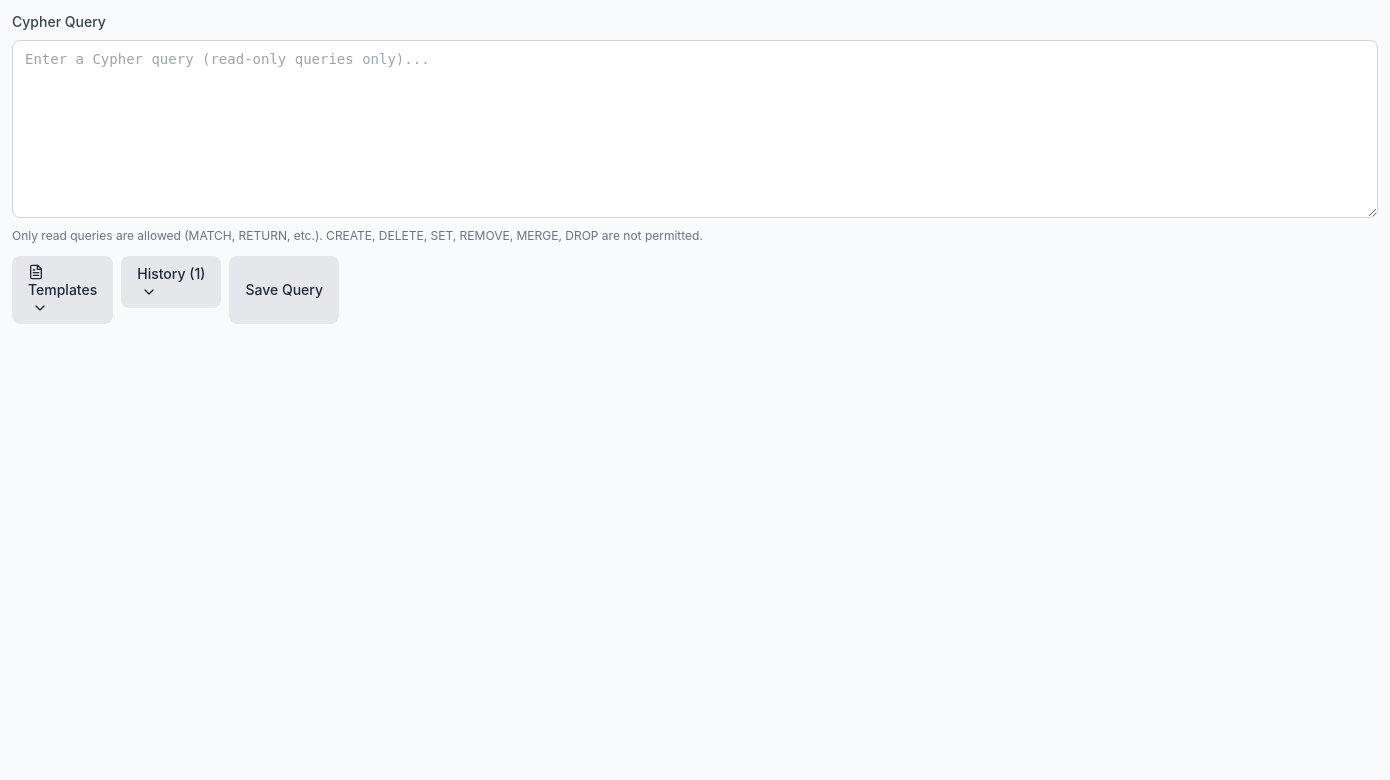
Test: QueryBuilder › query history › should hide history when templates is opened
Click the button with aria-label "Show query history": (171, 282) [121,256,221,308]
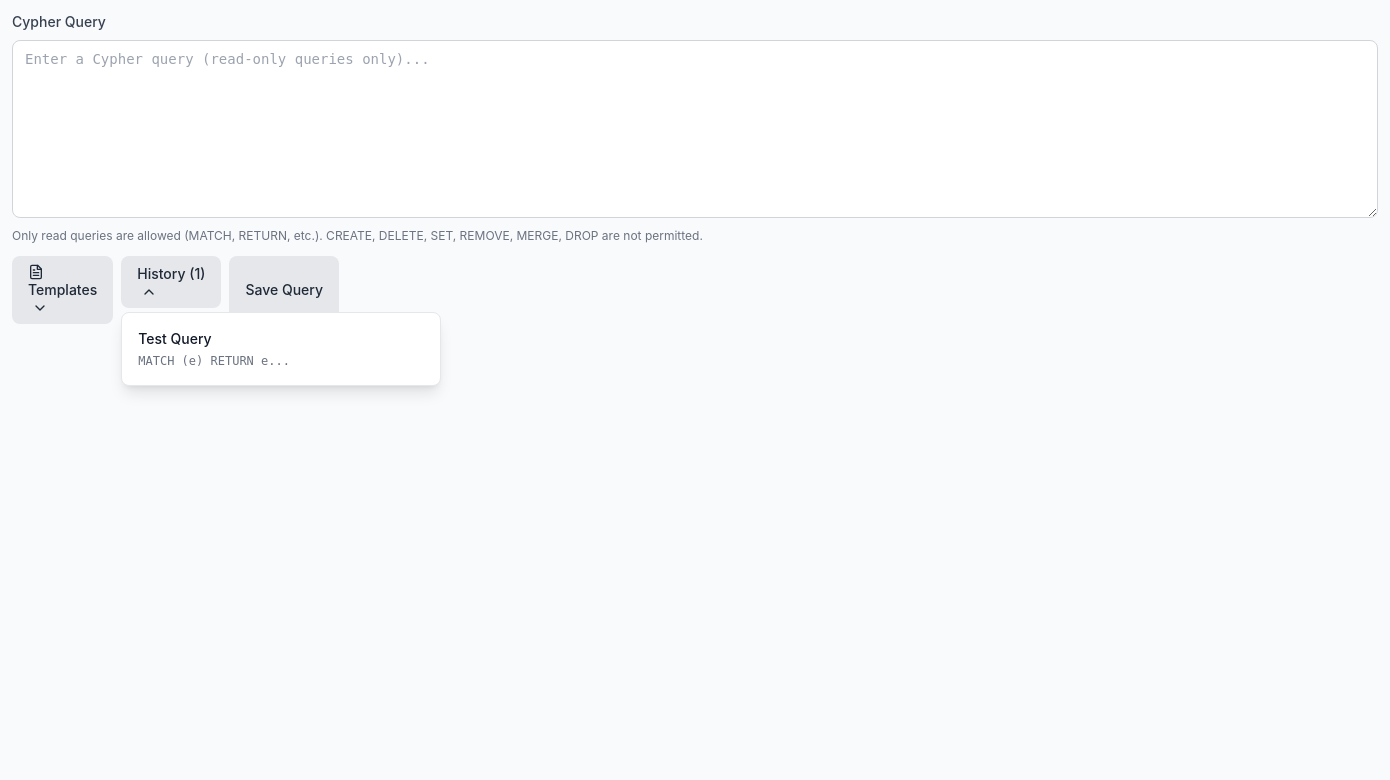
Result: the text "Test Query" is shown at [138,330,212,347]
Click the button with aria-label "Show query templates": (63, 290) [12,256,113,324]
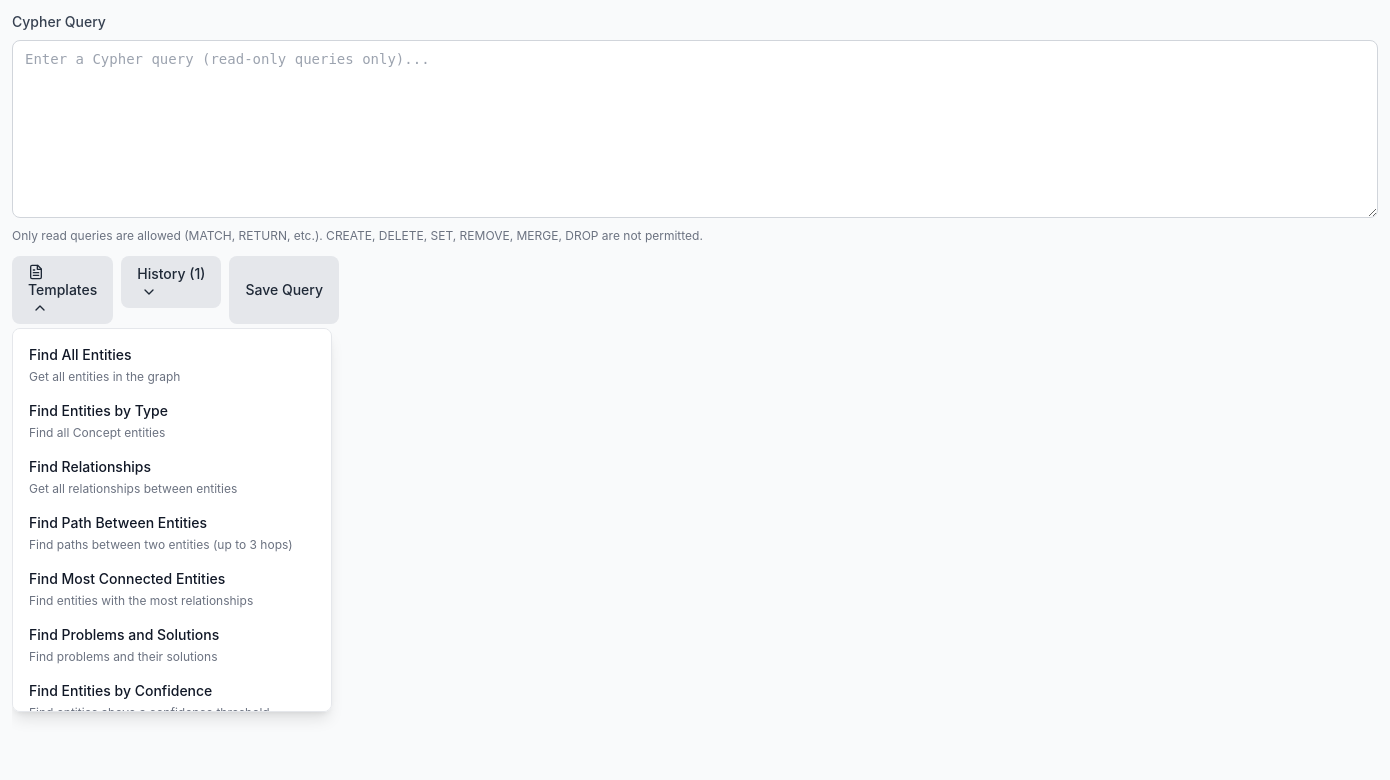
Result: the button "Test Query" is gone
Result: the text "Find All Entities" is shown at [29,346,132,363]
